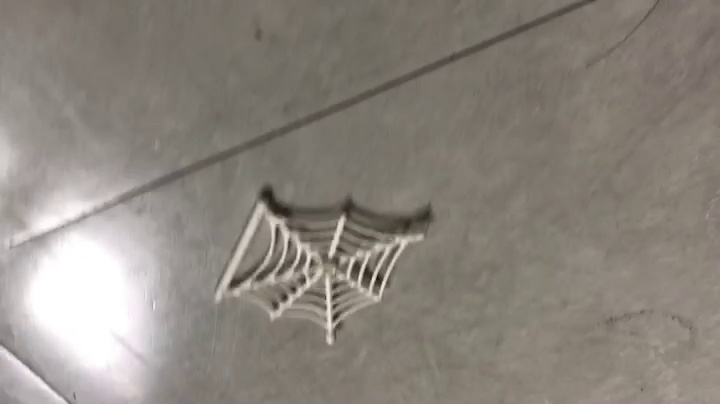web: (213, 181, 434, 347)
